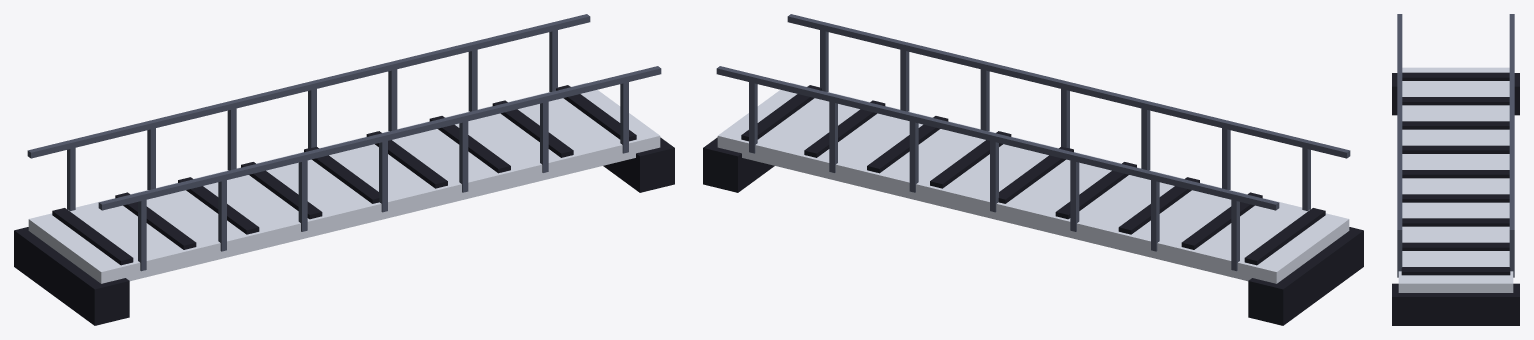
Rendered from jungle_catwalk.glb.
3 renders of one model, left to right at view 1: azimuth 30°, elevation 25°; view 2: azimuth 150°, elevation 25°; view 3: azimuth 270°, elevation 25°, orthographic. The views are drawn at different scales.
Visible parts, largest first — view 1: jungle_catwalk; view 2: jungle_catwalk; view 3: jungle_catwalk.
Part boxes in pixels (left/top/right/bottom): jungle_catwalk: left=14, top=14, right=674, bottom=325; jungle_catwalk: left=703, top=14, right=1363, bottom=325; jungle_catwalk: left=1392, top=14, right=1519, bottom=325.
Size of the model in its own units: 8.3 by 1.59 by 2.
